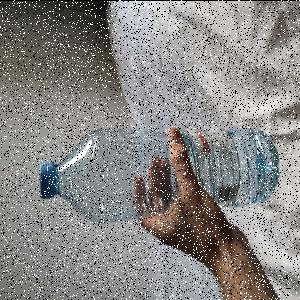Plastic-bottle: (40, 126, 282, 226)
